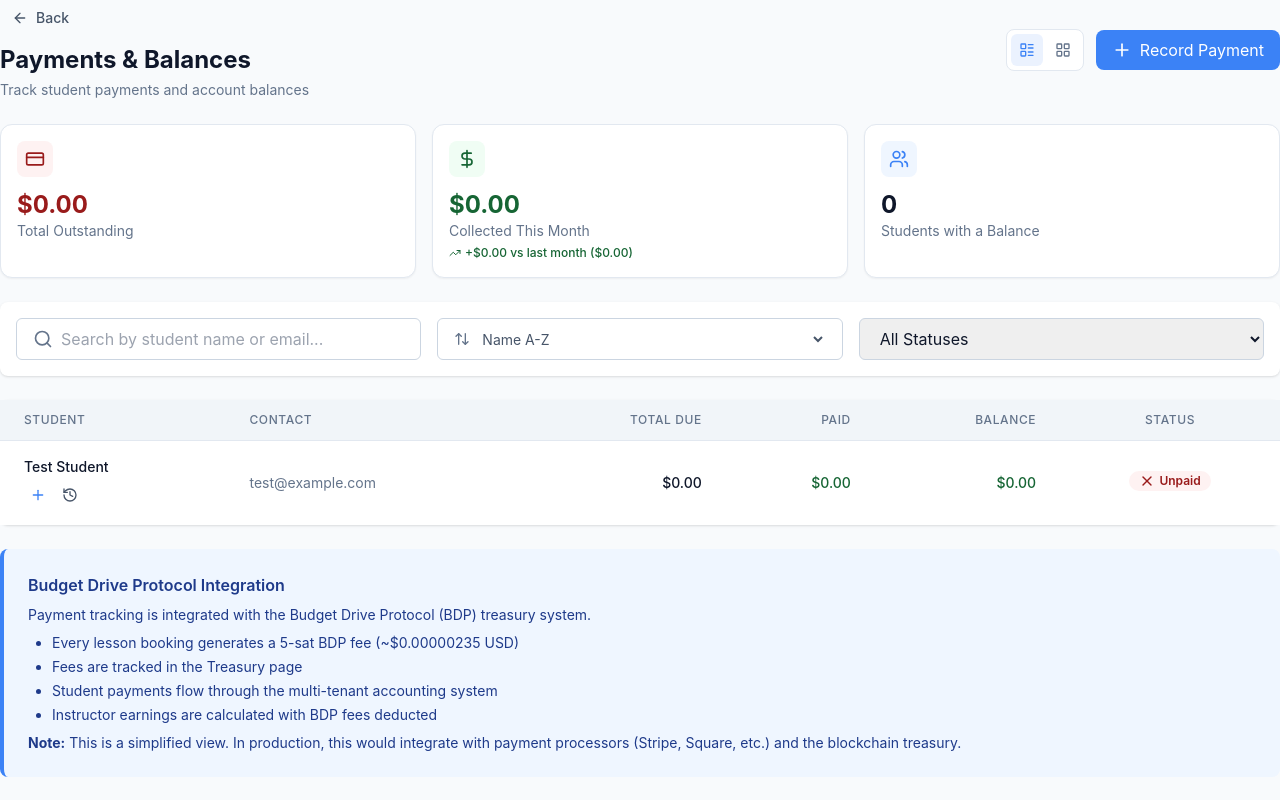
Test: Payments page - reference number visible in history (item 5) › View History shows the Reference # column, with the reference number recorded on the Add Payment modal
Click the button named "view payment history" at (70, 495), box top-left (56, 481), bottom-right (84, 509)
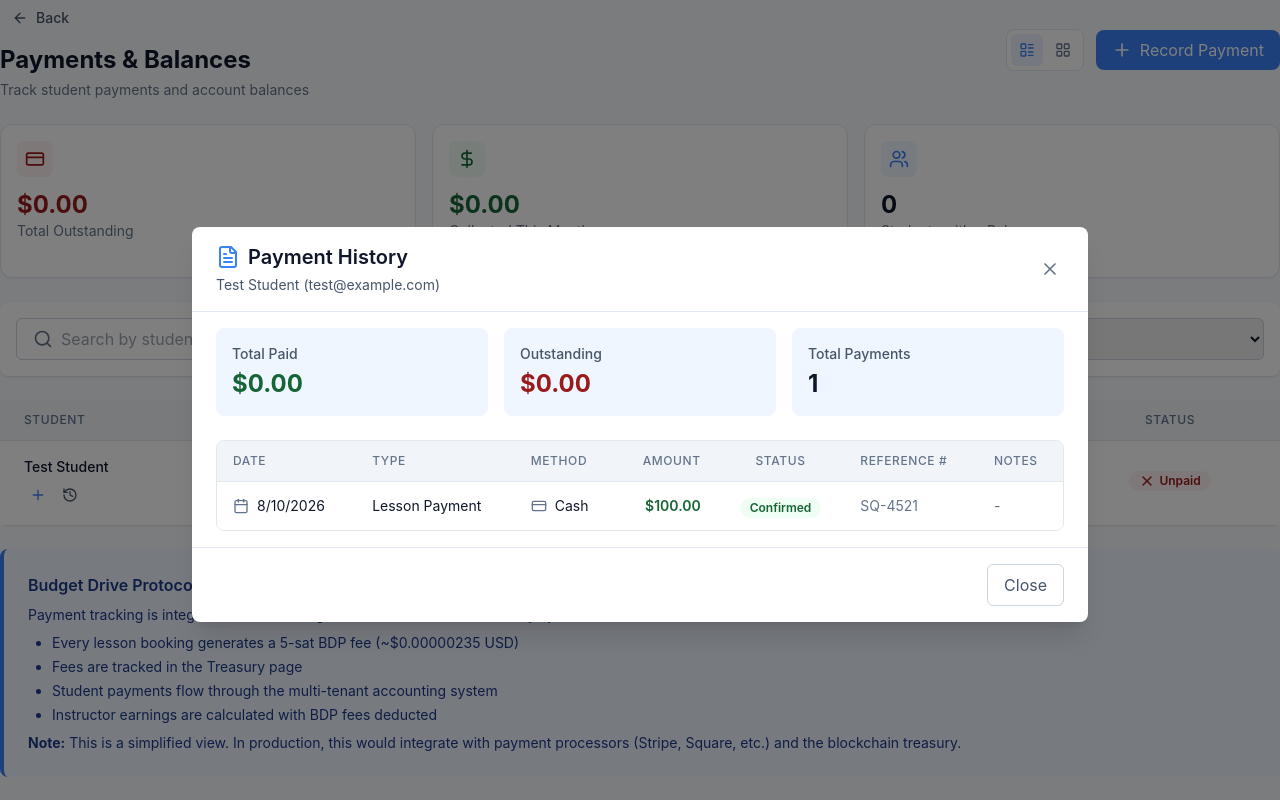
Now the heading "Payment History" is shown, box top-left (248, 242), bottom-right (408, 270)
Now the column heading "Reference #" is shown, box top-left (844, 440), bottom-right (978, 481)
Now the text "SQ-4521" is shown, box top-left (860, 496), bottom-right (918, 514)
